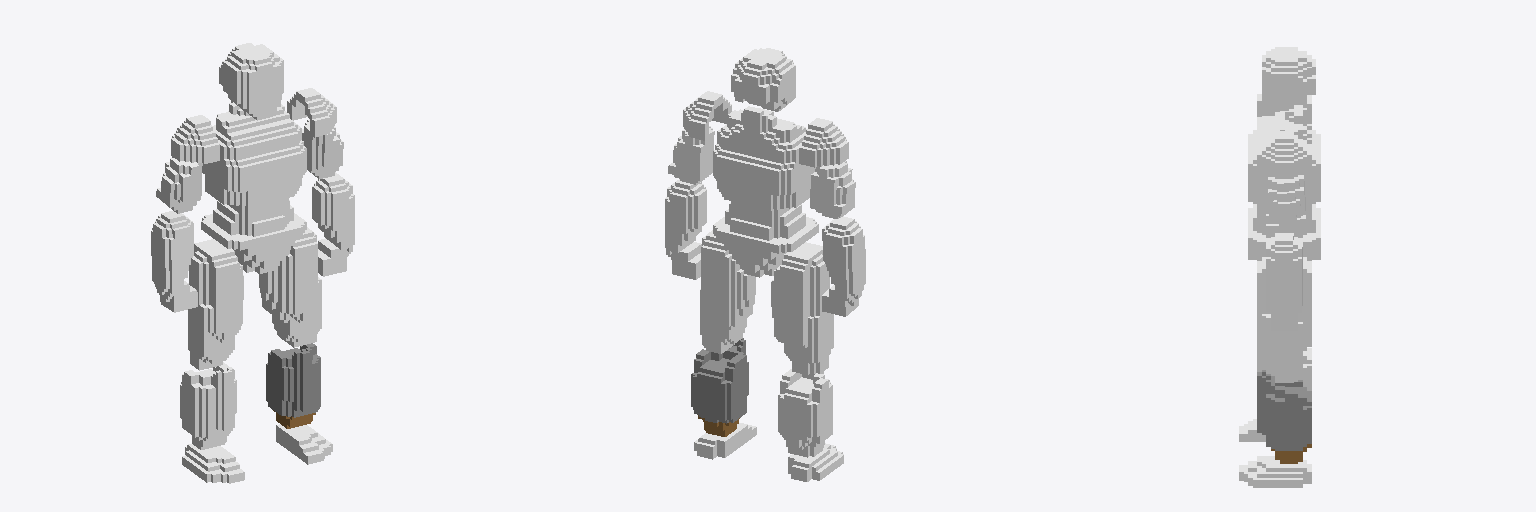
3 renders of one model, left to right at view 1: azimuth 30°, elevation 25°; view 2: azimuth 150°, elevation 25°; view 3: azimuth 270°, elevation 25°, orthographic.
Visible parts, largest first — view 1: body_2_Player-14, leg_3.R_Player-4, leg_3.L_Player-3, body_1_Player-2, leg_2.R_Player-5, leg_2.L_Player-0.001, head_Player-1, hand_3.R_Player-13, hand_3.L_Player-9, hand_2.R_Player-12, hand_1.R_Player-6, leg_1.R_Player-11 (+3 smaller); view 2: body_2_Player-14, leg_3.R_Player-4, body_1_Player-2, leg_3.L_Player-3, leg_2.L_Player-0.001, leg_2.R_Player-5, hand_3.R_Player-13, hand_3.L_Player-9, head_Player-1, hand_2.R_Player-12, hand_1.R_Player-6, hand_2.L_Player-8 (+3 smaller); view 3: leg_2.L_Player-0.001, leg_3.L_Player-3, body_2_Player-14, hand_3.L_Player-9, head_Player-1, body_1_Player-2, hand_1.L_Player-7, hand_2.L_Player-8, leg_1.L_Player-10, leg_2.R_Player-5.
Boxes of the visible parts, box(x1,y1,x2,y2) form: body_2_Player-14: box(202, 101, 306, 207); leg_3.R_Player-4: box(188, 239, 243, 370); leg_3.L_Player-3: box(259, 227, 321, 347); body_1_Player-2: box(201, 198, 306, 273); leg_2.R_Player-5: box(180, 362, 236, 449); leg_2.L_Player-0.001: box(266, 343, 320, 428); head_Player-1: box(219, 43, 283, 120); hand_3.R_Player-13: box(151, 211, 197, 312); hand_3.L_Player-9: box(312, 172, 354, 276); hand_2.R_Player-12: box(156, 156, 202, 213); hand_1.R_Player-6: box(171, 115, 219, 163); leg_1.R_Player-11: box(182, 444, 244, 483); body_2_Player-14: box(713, 106, 815, 210); leg_3.R_Player-4: box(771, 242, 833, 374); body_1_Player-2: box(713, 201, 818, 277); leg_3.L_Player-3: box(700, 230, 755, 353); leg_2.L_Player-0.001: box(691, 338, 748, 436); leg_2.R_Player-5: box(778, 369, 832, 457); hand_3.R_Player-13: box(822, 216, 865, 316); hand_3.L_Player-9: box(665, 179, 706, 279); head_Player-1: box(731, 48, 795, 111); hand_2.R_Player-12: box(810, 161, 855, 218); hand_1.R_Player-6: box(799, 118, 848, 167); hand_2.L_Player-8: box(668, 126, 714, 184); leg_2.L_Player-0.001: box(1257, 370, 1311, 463); leg_3.L_Player-3: box(1257, 257, 1311, 382); body_2_Player-14: box(1248, 96, 1320, 208); hand_3.L_Player-9: box(1266, 233, 1302, 330); head_Player-1: box(1262, 47, 1315, 115); body_1_Player-2: box(1248, 204, 1320, 260); hand_1.L_Player-7: box(1257, 131, 1311, 178); hand_2.L_Player-8: box(1267, 175, 1305, 232); leg_1.L_Player-10: box(1239, 456, 1311, 487); leg_2.R_Player-5: box(1257, 343, 1311, 390).
Bounding box in the file's own units: 4.81 × 9.8 × 1.8.
Materials: 15 (1 with a texture image).